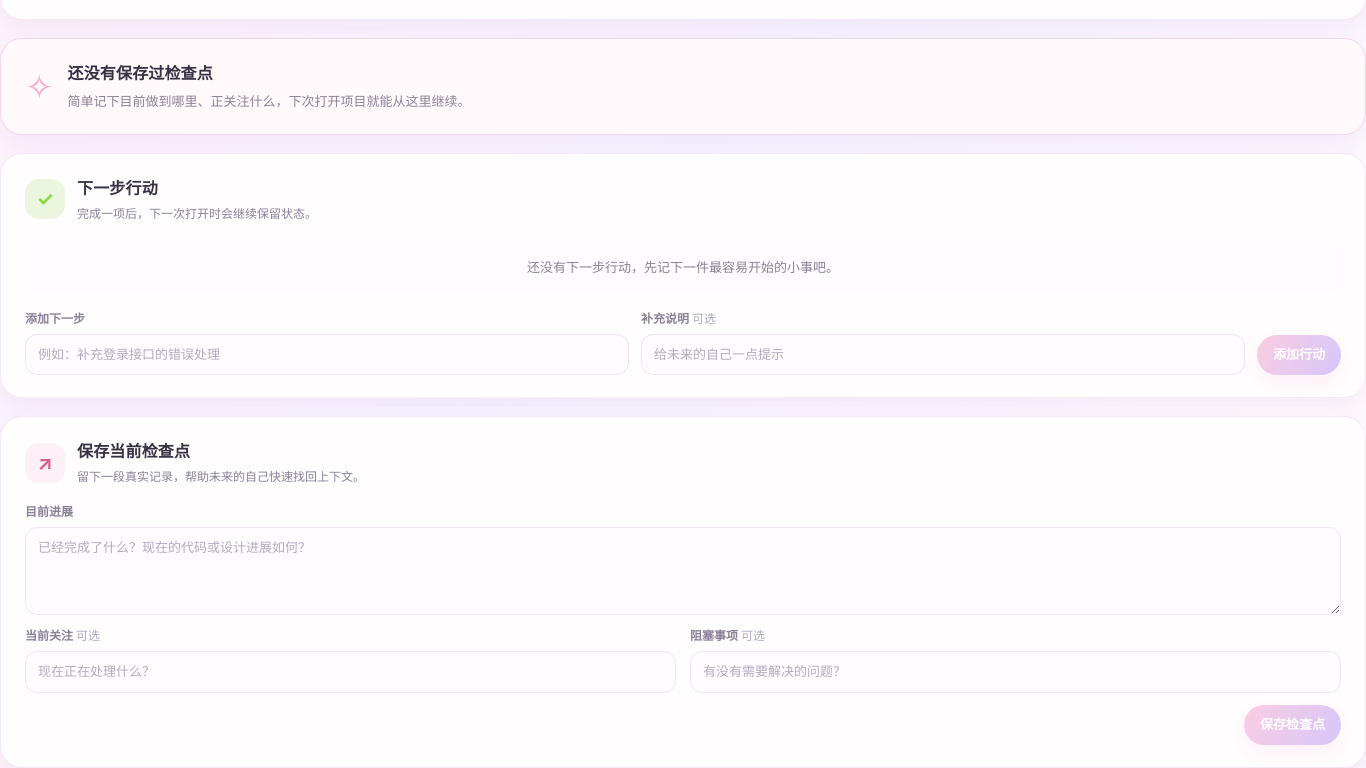
Test: RecoveryView › persists a checkpoint and reloads the latest recovery data
(page scrolled)
Type "完成了核心流程" into the text box labelled "目前进展". click: (683, 571)
box: [25,527,1341,615]
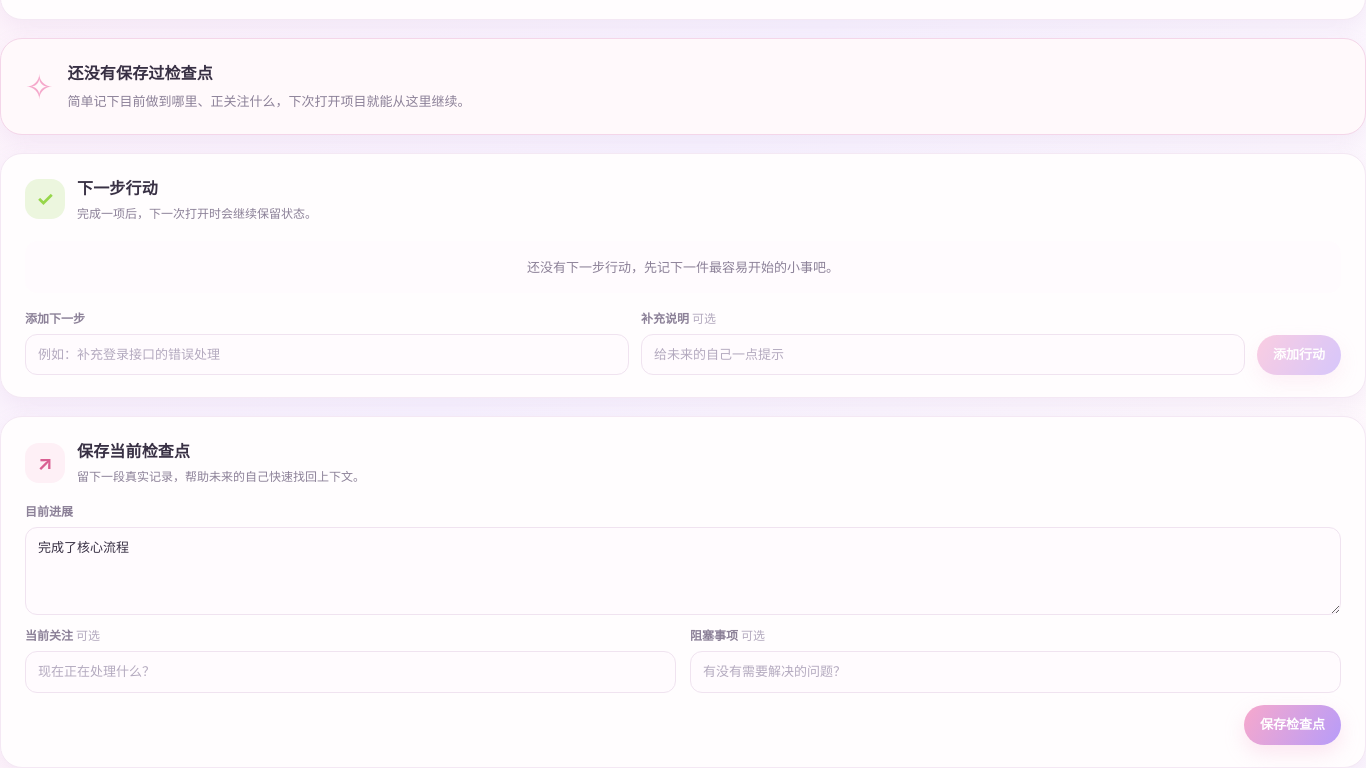
Type "准备测试" into the field with placeholder "现在正在处理什么？". click: (350, 672)
box: [25,651,676,693]
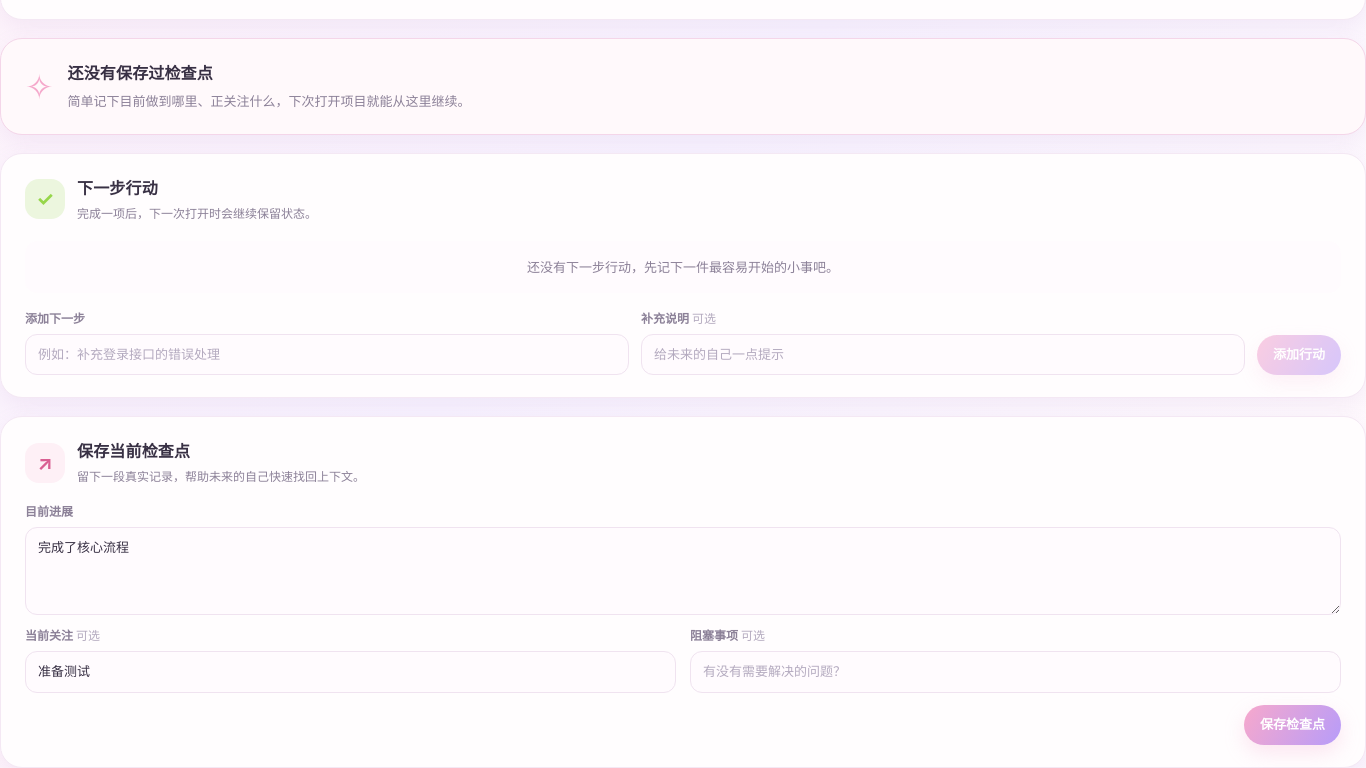
Submit the form with class "checkpoint-form", box [25,503,1341,745]
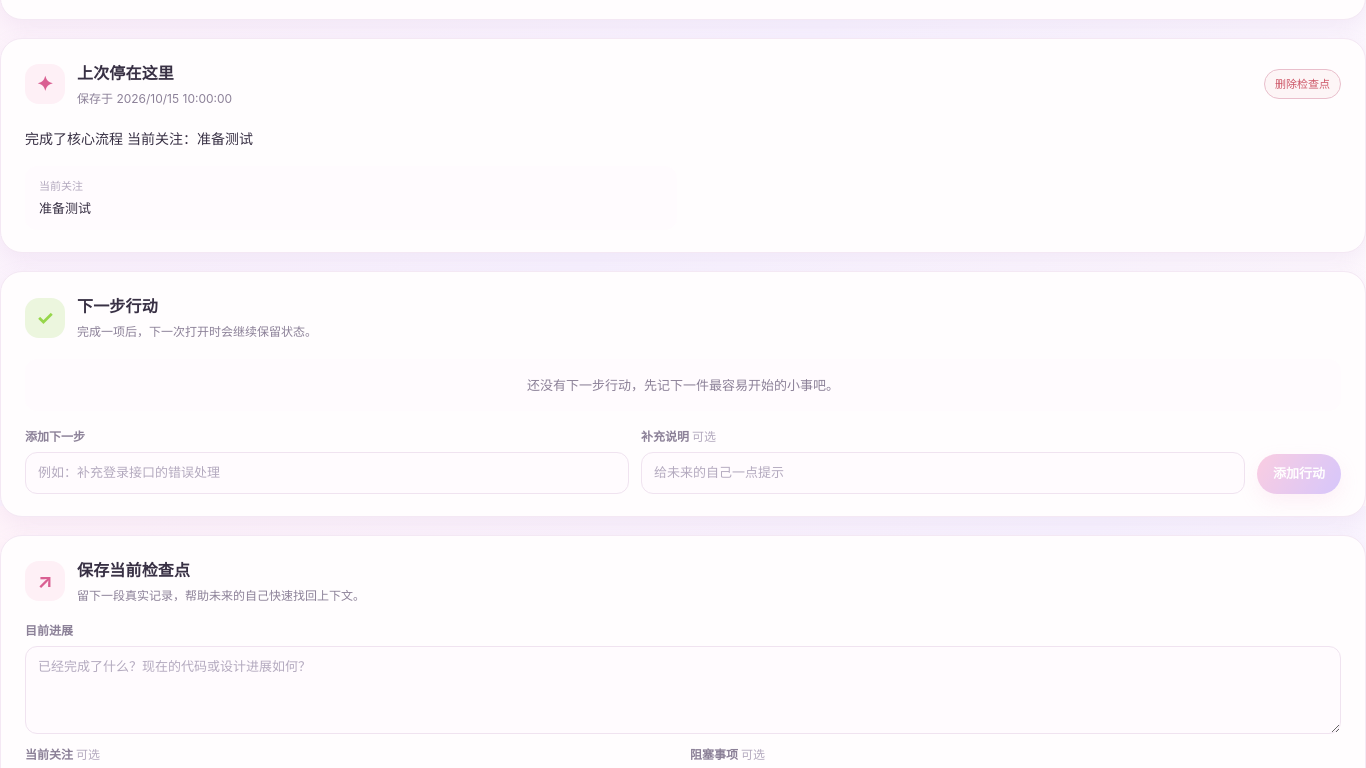
Now the text "完成了核心流程" is shown, box [25,130,253,146]
